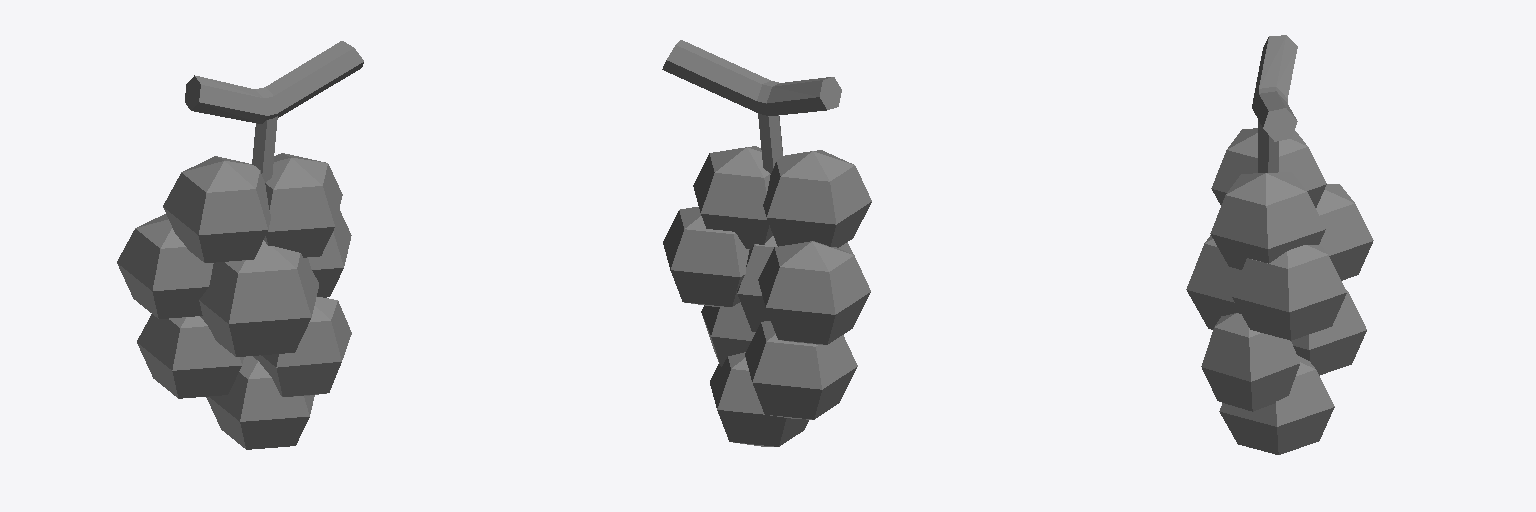
Rendered from Grapes.obj.
3 renders of one model, left to right at view 1: azimuth 30°, elevation 25°; view 2: azimuth 150°, elevation 25°; view 3: azimuth 270°, elevation 25°, orthographic.
Visible parts, largest first — view 1: Inst3D26_RefRep.219; view 2: Inst3D26_RefRep.219; view 3: Inst3D26_RefRep.219.
Part boxes in pixels (x1,y1,x2,y2): Inst3D26_RefRep.219: (117, 41, 363, 449); Inst3D26_RefRep.219: (662, 40, 871, 446); Inst3D26_RefRep.219: (1186, 35, 1373, 454).
Size of the model in its own units: 2.12 by 3.77 by 1.66.